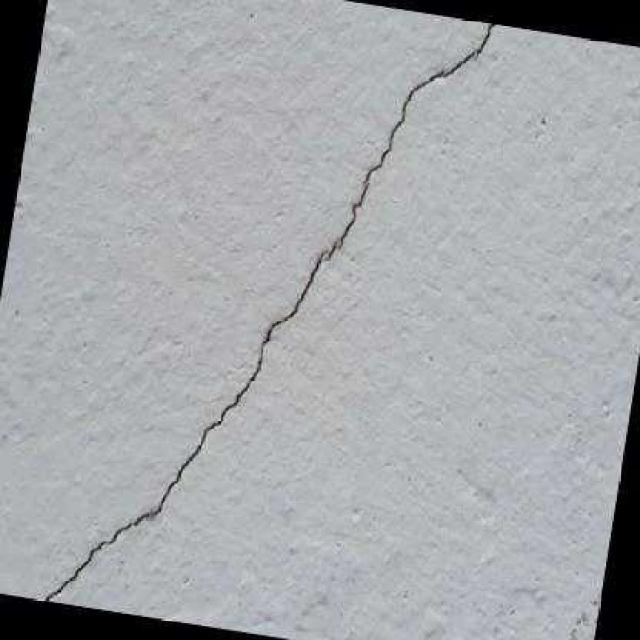D00: (42, 23, 498, 601)
